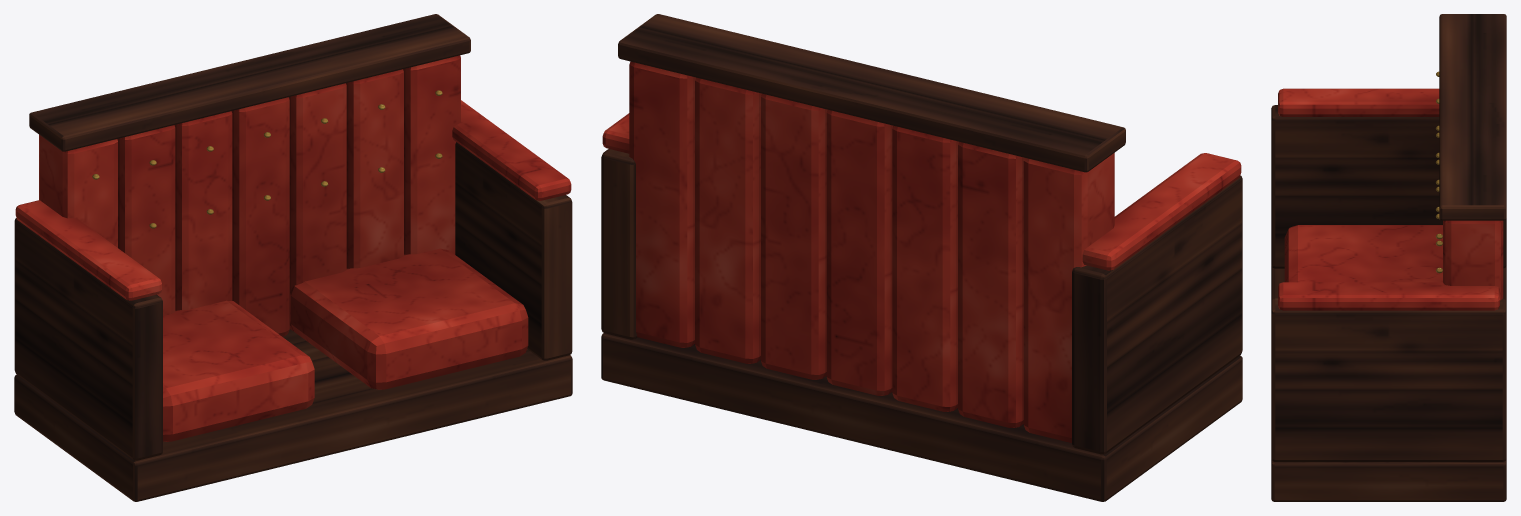
Rendered from sofa_booth.glb.
The picture shows the model from 3 angles, left to right: view 1: azimuth 30°, elevation 25°; view 2: azimuth 150°, elevation 25°; view 3: azimuth 270°, elevation 25°; orthographic projection. The views are drawn at different scales.
Parts seen in each view (by area): view 1: sofa_booth; view 2: sofa_booth; view 3: sofa_booth.
Boxes of the visible parts, x1,y1,x2,y2 form: sofa_booth: [14, 14, 572, 501]; sofa_booth: [601, 14, 1242, 501]; sofa_booth: [1271, 14, 1506, 501].
Bounding box in the file's own units: 1.48 × 0.95 × 0.7.
Materials: 3 (3 with a texture image).
